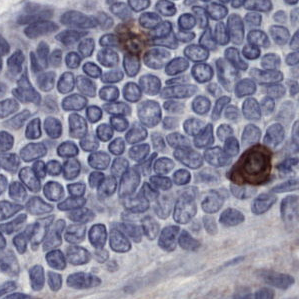Lymphocyte: (230, 143, 275, 188)
